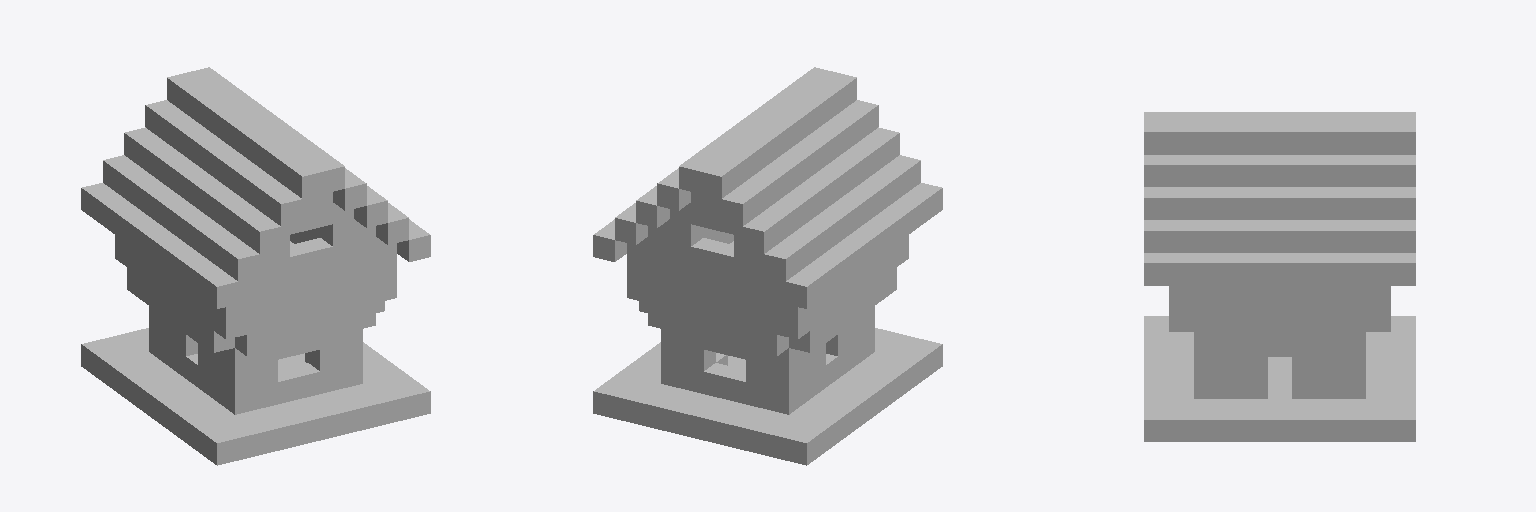
The model's file is mesh_wesh_town_hall.obj.
3 renders of one model, left to right at view 1: azimuth 30°, elevation 25°; view 2: azimuth 150°, elevation 25°; view 3: azimuth 270°, elevation 25°, orthographic.
Bounding box in the file's own units: 0.3125 × 0.375 × 0.3438.